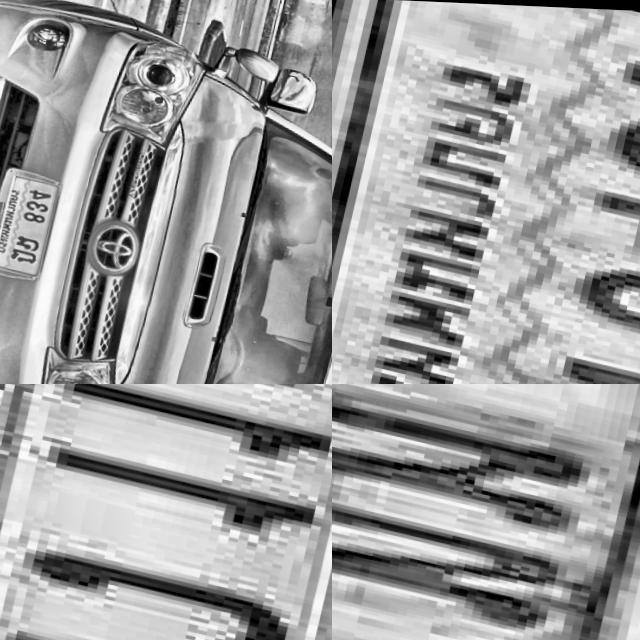license-plate: (332, 0, 640, 384), (0, 384, 332, 640), (332, 384, 640, 640), (0, 153, 74, 287)
